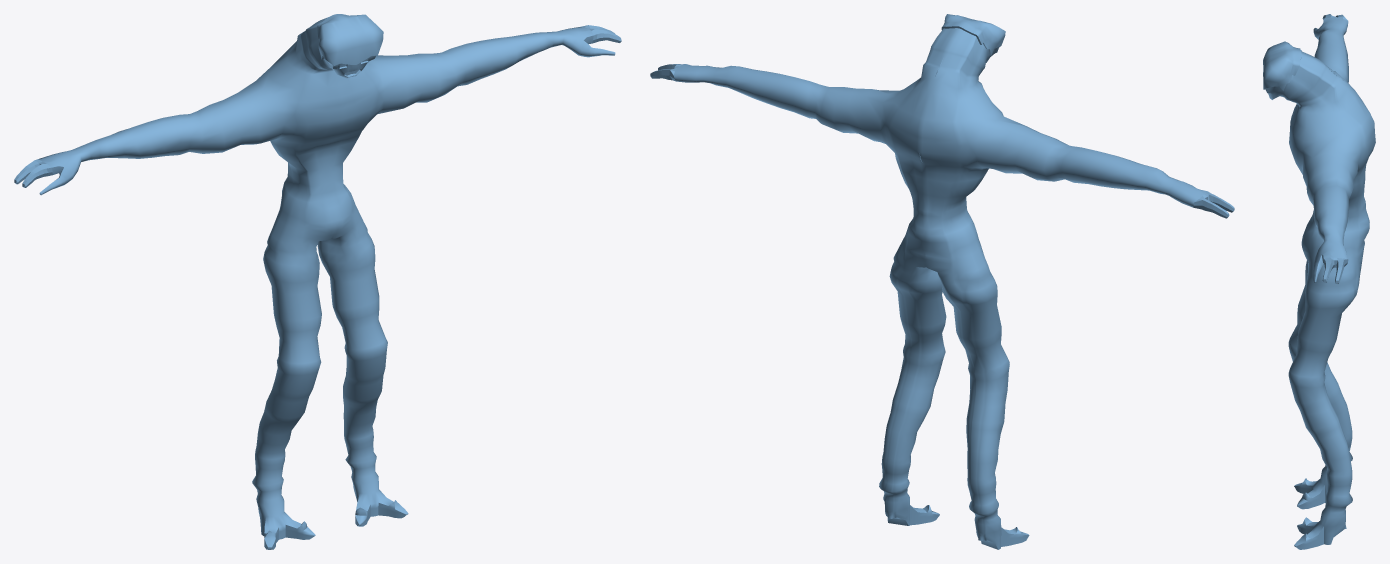
Rendered from Leaper_Blockout_05.fbx.
3 views of the same model, side by side, from view 1: azimuth 30°, elevation 25°; view 2: azimuth 150°, elevation 25°; view 3: azimuth 270°, elevation 25° (orthographic). The views are drawn at different scales.
Visible parts, largest first — view 1: Leaper blockout; view 2: Leaper blockout; view 3: Leaper blockout.
Part boxes in pixels (box(x1,y1,x2,y2)): Leaper blockout: box(14, 14, 621, 549); Leaper blockout: box(650, 14, 1234, 549); Leaper blockout: box(1263, 14, 1375, 549).
Size of the model in its own units: 324 by 267 by 58.3.
